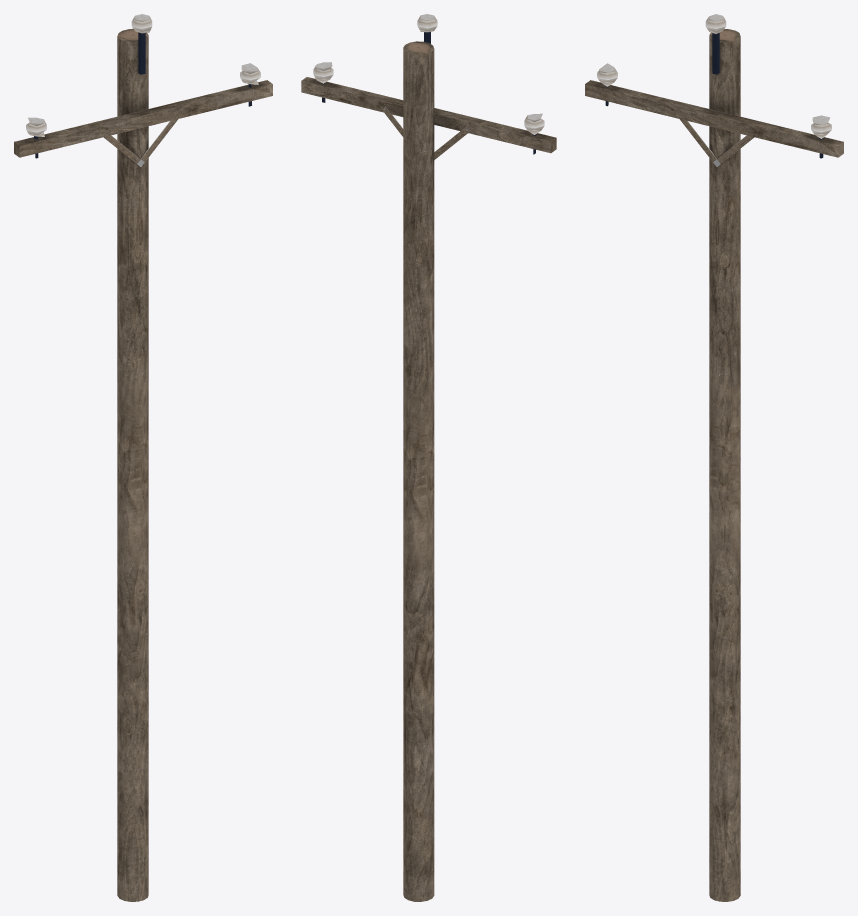
The model's file is electric__utility_pole_-_low_poly.glb.
The picture shows the model from 3 angles, left to right: view 1: azimuth 30°, elevation 25°; view 2: azimuth 150°, elevation 25°; view 3: azimuth 330°, elevation 25°; orthographic projection.
Visible parts, largest first — view 1: SM_PosteLuz; view 2: SM_PosteLuz; view 3: SM_PosteLuz.
Part boxes in pixels (x1,y1,x2,y2): SM_PosteLuz: (14,14,272,901); SM_PosteLuz: (301,14,556,901); SM_PosteLuz: (585,14,843,901).
Size of the model in its own units: 2.17 by 7.24 by 0.3442.
1 material, 1 textured.
